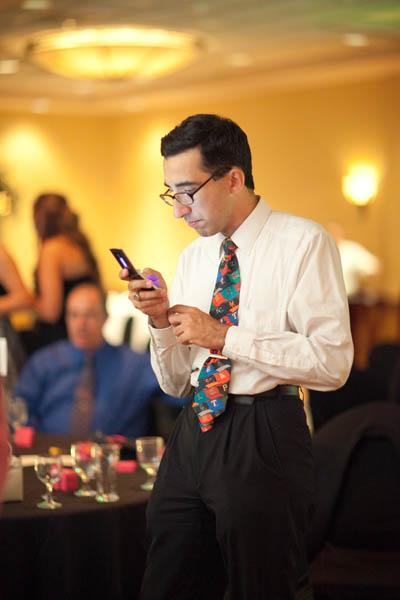person: (120, 114, 356, 596)
